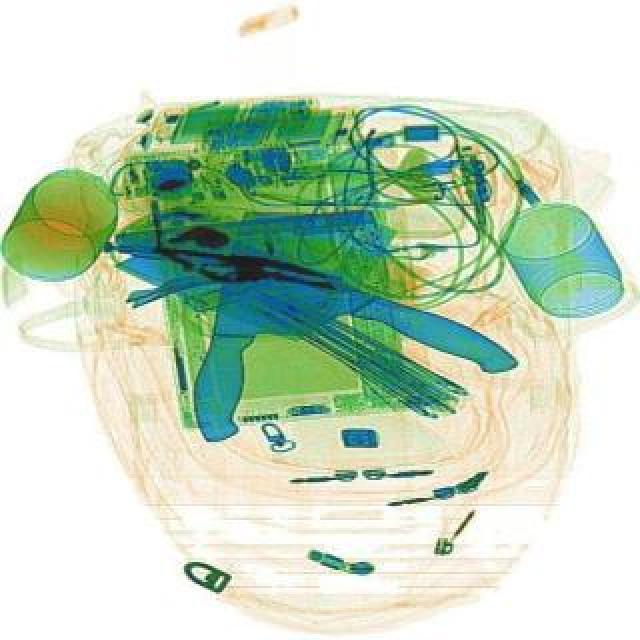knife: (110, 186, 522, 432), (178, 184, 372, 462)
